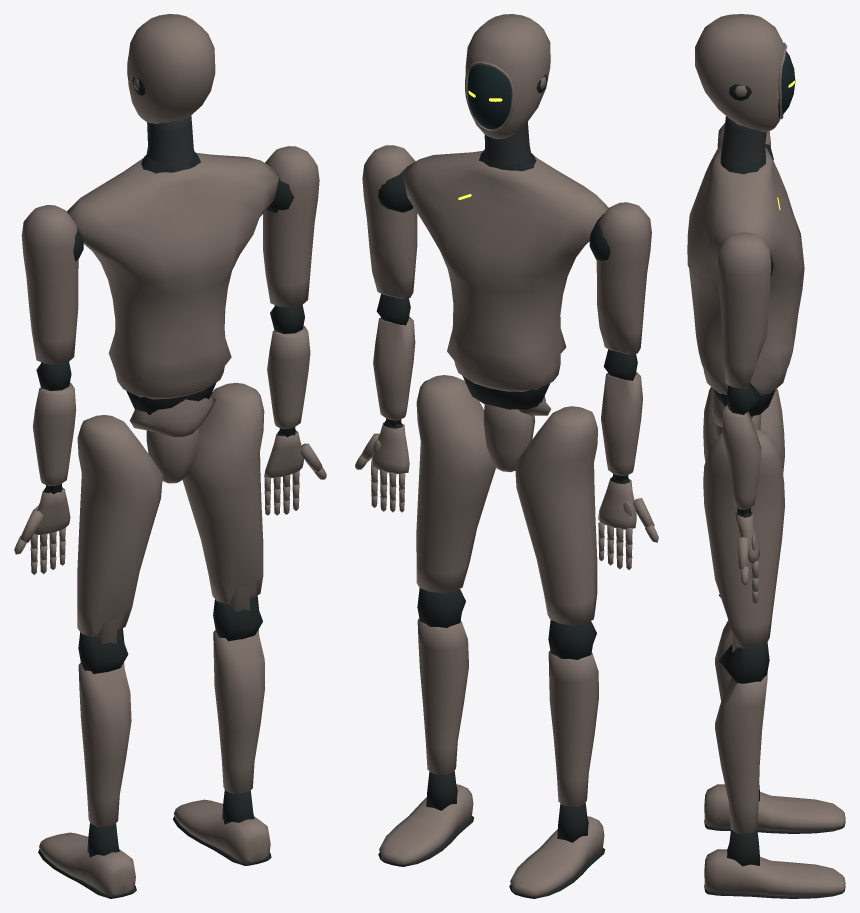
The model's file is cairn-ii-lod.glb.
3 views of the same model, side by side, from view 1: azimuth 30°, elevation 25°; view 2: azimuth 150°, elevation 25°; view 3: azimuth 270°, elevation 25° (orthographic). The views are drawn at different scales.
Parts seen in each view (by area): view 1: spine_roll_cairnCover, left_leg_yaw_cairnCover, right_leg_yaw_cairnCover, head_pitch_cairnCover, left_arm_yaw_cairnCover, right_arm_yaw_cairnCover, left_leg_knee_cairnCover, right_leg_knee_cairnCover, pelvis_cairnCover, left_arm_elbow_cairnCover, right_arm_elbow_cairnCover, right_leg_ankle_roll_cairnCover (+11 smaller); view 2: spine_roll_cairnCover, left_leg_yaw_cairnCover, right_leg_yaw_cairnCover, left_arm_yaw_cairnCover, head_pitch_cairnCover, right_leg_knee_cairnCover, left_leg_knee_cairnCover, right_arm_yaw_cairnCover, left_leg_ankle_roll_cairnCover, right_leg_ankle_roll_cairnCover, left_arm_elbow_cairnCover, right_arm_elbow_cairnCover (+12 smaller); view 3: spine_roll_cairnCover, right_leg_yaw_cairnCover, head_pitch_cairnCover, right_arm_yaw_cairnCover, right_leg_knee_cairnCover, right_leg_ankle_roll_cairnCover, left_leg_ankle_roll_cairnCover, right_arm_elbow_cairnCover, left_leg_yaw_cairnCover, head_yaw_softGraphite, right_leg_knee_softCore, right_leg_ankle_roll_softCore (+7 smaller).
Part boxes in pixels (x1=…): spine_roll_cairnCover: x1=67, y1=152, x2=278, y2=399; left_leg_yaw_cairnCover: x1=77, y1=415, x2=162, y2=644; right_leg_yaw_cairnCover: x1=182, y1=383, x2=264, y2=611; head_pitch_cairnCover: x1=127, y1=14, x2=215, y2=123; left_arm_yaw_cairnCover: x1=21, y1=205, x2=78, y2=364; right_arm_yaw_cairnCover: x1=263, y1=146, x2=319, y2=307; left_leg_knee_cairnCover: x1=78, y1=662, x2=131, y2=826; right_leg_knee_cairnCover: x1=213, y1=629, x2=264, y2=793; pelvis_cairnCover: x1=129, y1=395, x2=215, y2=483; left_arm_elbow_cairnCover: x1=32, y1=382, x2=76, y2=486; right_arm_elbow_cairnCover: x1=267, y1=325, x2=310, y2=428; right_leg_ankle_roll_cairnCover: x1=174, y1=799, x2=270, y2=862; spine_roll_cairnCover: x1=403, y1=150, x2=608, y2=391; left_leg_yaw_cairnCover: x1=515, y1=406, x2=597, y2=625; right_leg_yaw_cairnCover: x1=416, y1=375, x2=495, y2=593; left_arm_yaw_cairnCover: x1=596, y1=202, x2=651, y2=354; head_pitch_cairnCover: x1=465, y1=14, x2=550, y2=139; right_leg_knee_cairnCover: x1=417, y1=618, x2=468, y2=775; left_leg_knee_cairnCover: x1=548, y1=650, x2=598, y2=806; right_arm_yaw_cairnCover: x1=362, y1=145, x2=417, y2=298; left_leg_ankle_roll_cairnCover: x1=510, y1=816, x2=604, y2=896; right_leg_ankle_roll_cairnCover: x1=379, y1=784, x2=473, y2=864; left_arm_elbow_cairnCover: x1=601, y1=372, x2=642, y2=475; right_arm_elbow_cairnCover: x1=373, y1=316, x2=415, y2=420; spine_roll_cairnCover: x1=687, y1=145, x2=804, y2=395; right_leg_yaw_cairnCover: x1=703, y1=428, x2=784, y2=652; head_pitch_cairnCover: x1=695, y1=14, x2=787, y2=132; right_arm_yaw_cairnCover: x1=717, y1=232, x2=770, y2=388; right_leg_knee_cairnCover: x1=715, y1=672, x2=767, y2=833; right_leg_ankle_roll_cairnCover: x1=704, y1=849, x2=845, y2=896; left_leg_ankle_roll_cairnCover: x1=704, y1=784, x2=845, y2=831; right_arm_elbow_cairnCover: x1=722, y1=404, x2=761, y2=509; left_leg_yaw_cairnCover: x1=703, y1=387, x2=784, y2=473; head_yaw_softGraphite: x1=720, y1=116, x2=766, y2=164; right_leg_knee_softCore: x1=719, y1=642, x2=769, y2=683; right_leg_ankle_roll_softCore: x1=704, y1=830, x2=845, y2=898.
Bounding box in the file's own units: 0.6951 × 1.8 × 0.3089.
